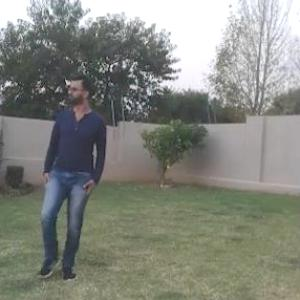follow: (37, 55, 107, 270)
